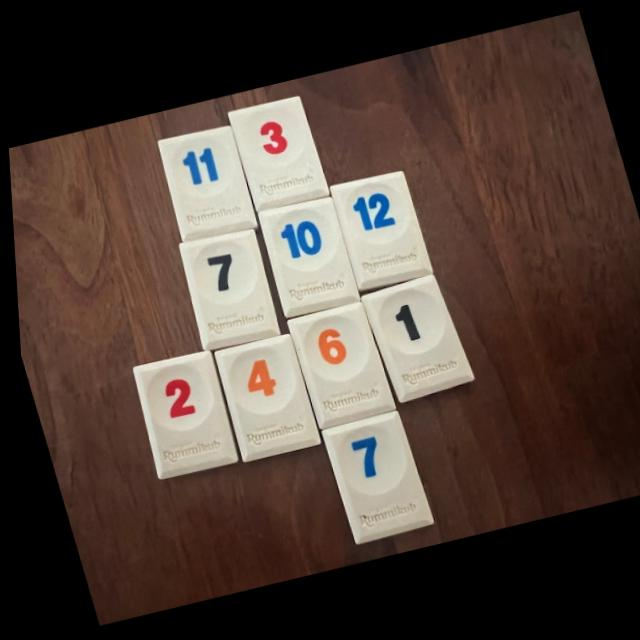black_1: (358, 274, 468, 402)
black_7: (176, 229, 275, 350)
blue_10: (254, 198, 356, 319)
blue_11: (156, 126, 254, 242)
blue_12: (327, 171, 429, 292)
blue_7: (317, 412, 426, 543)
orange_4: (210, 335, 314, 460)
orange_6: (283, 303, 389, 429)
red_2: (128, 351, 233, 479)
red_3: (226, 97, 326, 211)
